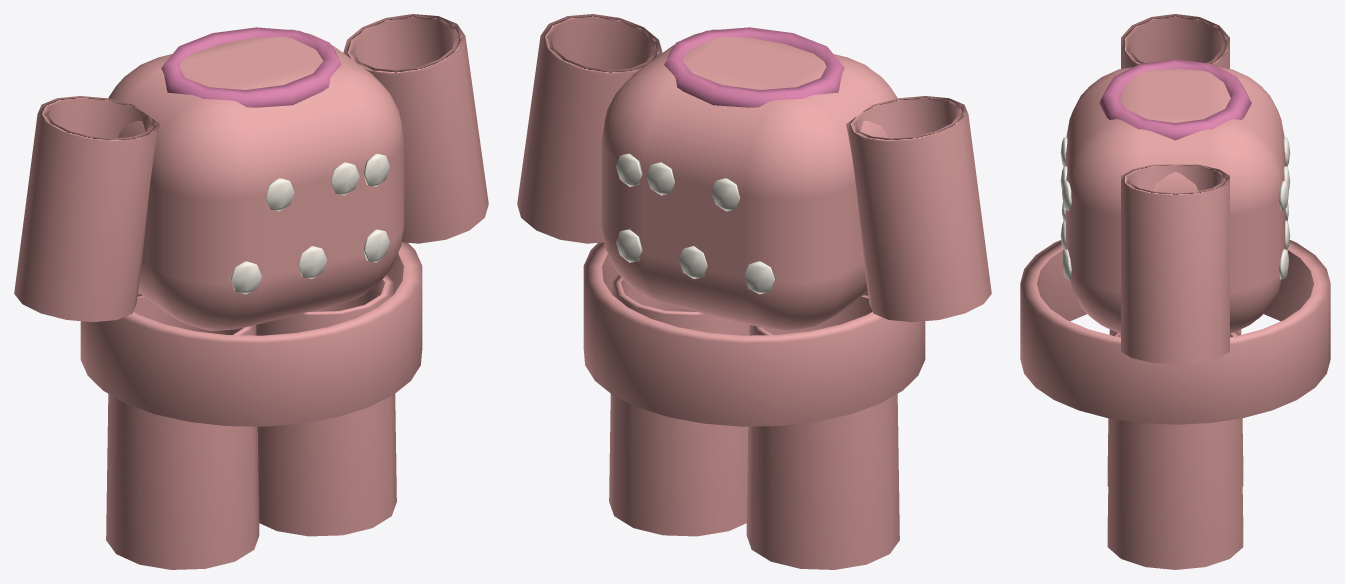
Rendered from baby_romper.glb.
3 views of the same model, side by side, from view 1: azimuth 30°, elevation 25°; view 2: azimuth 150°, elevation 25°; view 3: azimuth 270°, elevation 25° (orthographic). The views are drawn at different scales.
Parts seen in each view (by area): view 1: baby_romper_Body, baby_romper_ArmL, baby_romper_LegL, baby_romper_ArmR, baby_romper_LegR; view 2: baby_romper_Body, baby_romper_ArmL, baby_romper_LegL, baby_romper_ArmR, baby_romper_LegR; view 3: baby_romper_Body, baby_romper_ArmR, baby_romper_LegR, baby_romper_ArmL.
Part boxes in pixels (x1,y1,x2,y2): baby_romper_Body: (80, 27, 422, 426); baby_romper_ArmL: (14, 96, 159, 322); baby_romper_LegL: (106, 293, 259, 569); baby_romper_ArmR: (343, 14, 488, 243); baby_romper_LegR: (256, 274, 396, 536); baby_romper_Body: (583, 27, 925, 426); baby_romper_ArmL: (846, 96, 991, 322); baby_romper_LegL: (746, 293, 899, 569); baby_romper_ArmR: (517, 14, 662, 243); baby_romper_LegR: (609, 274, 749, 536); baby_romper_Body: (1020, 59, 1330, 424); baby_romper_ArmR: (1121, 164, 1229, 364); baby_romper_LegR: (1107, 331, 1243, 569); baby_romper_ArmL: (1121, 14, 1229, 68).
Bounding box in the file's own units: 0.6334 × 0.6069 × 0.41.
